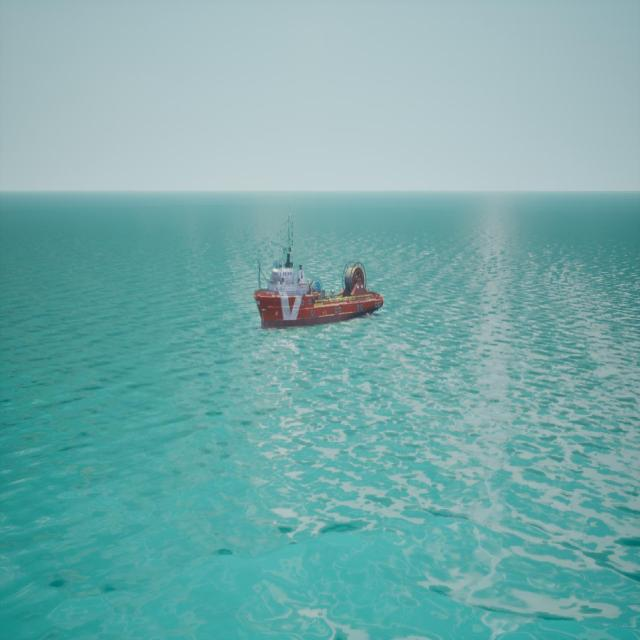tug boat: (254, 211, 384, 334)
